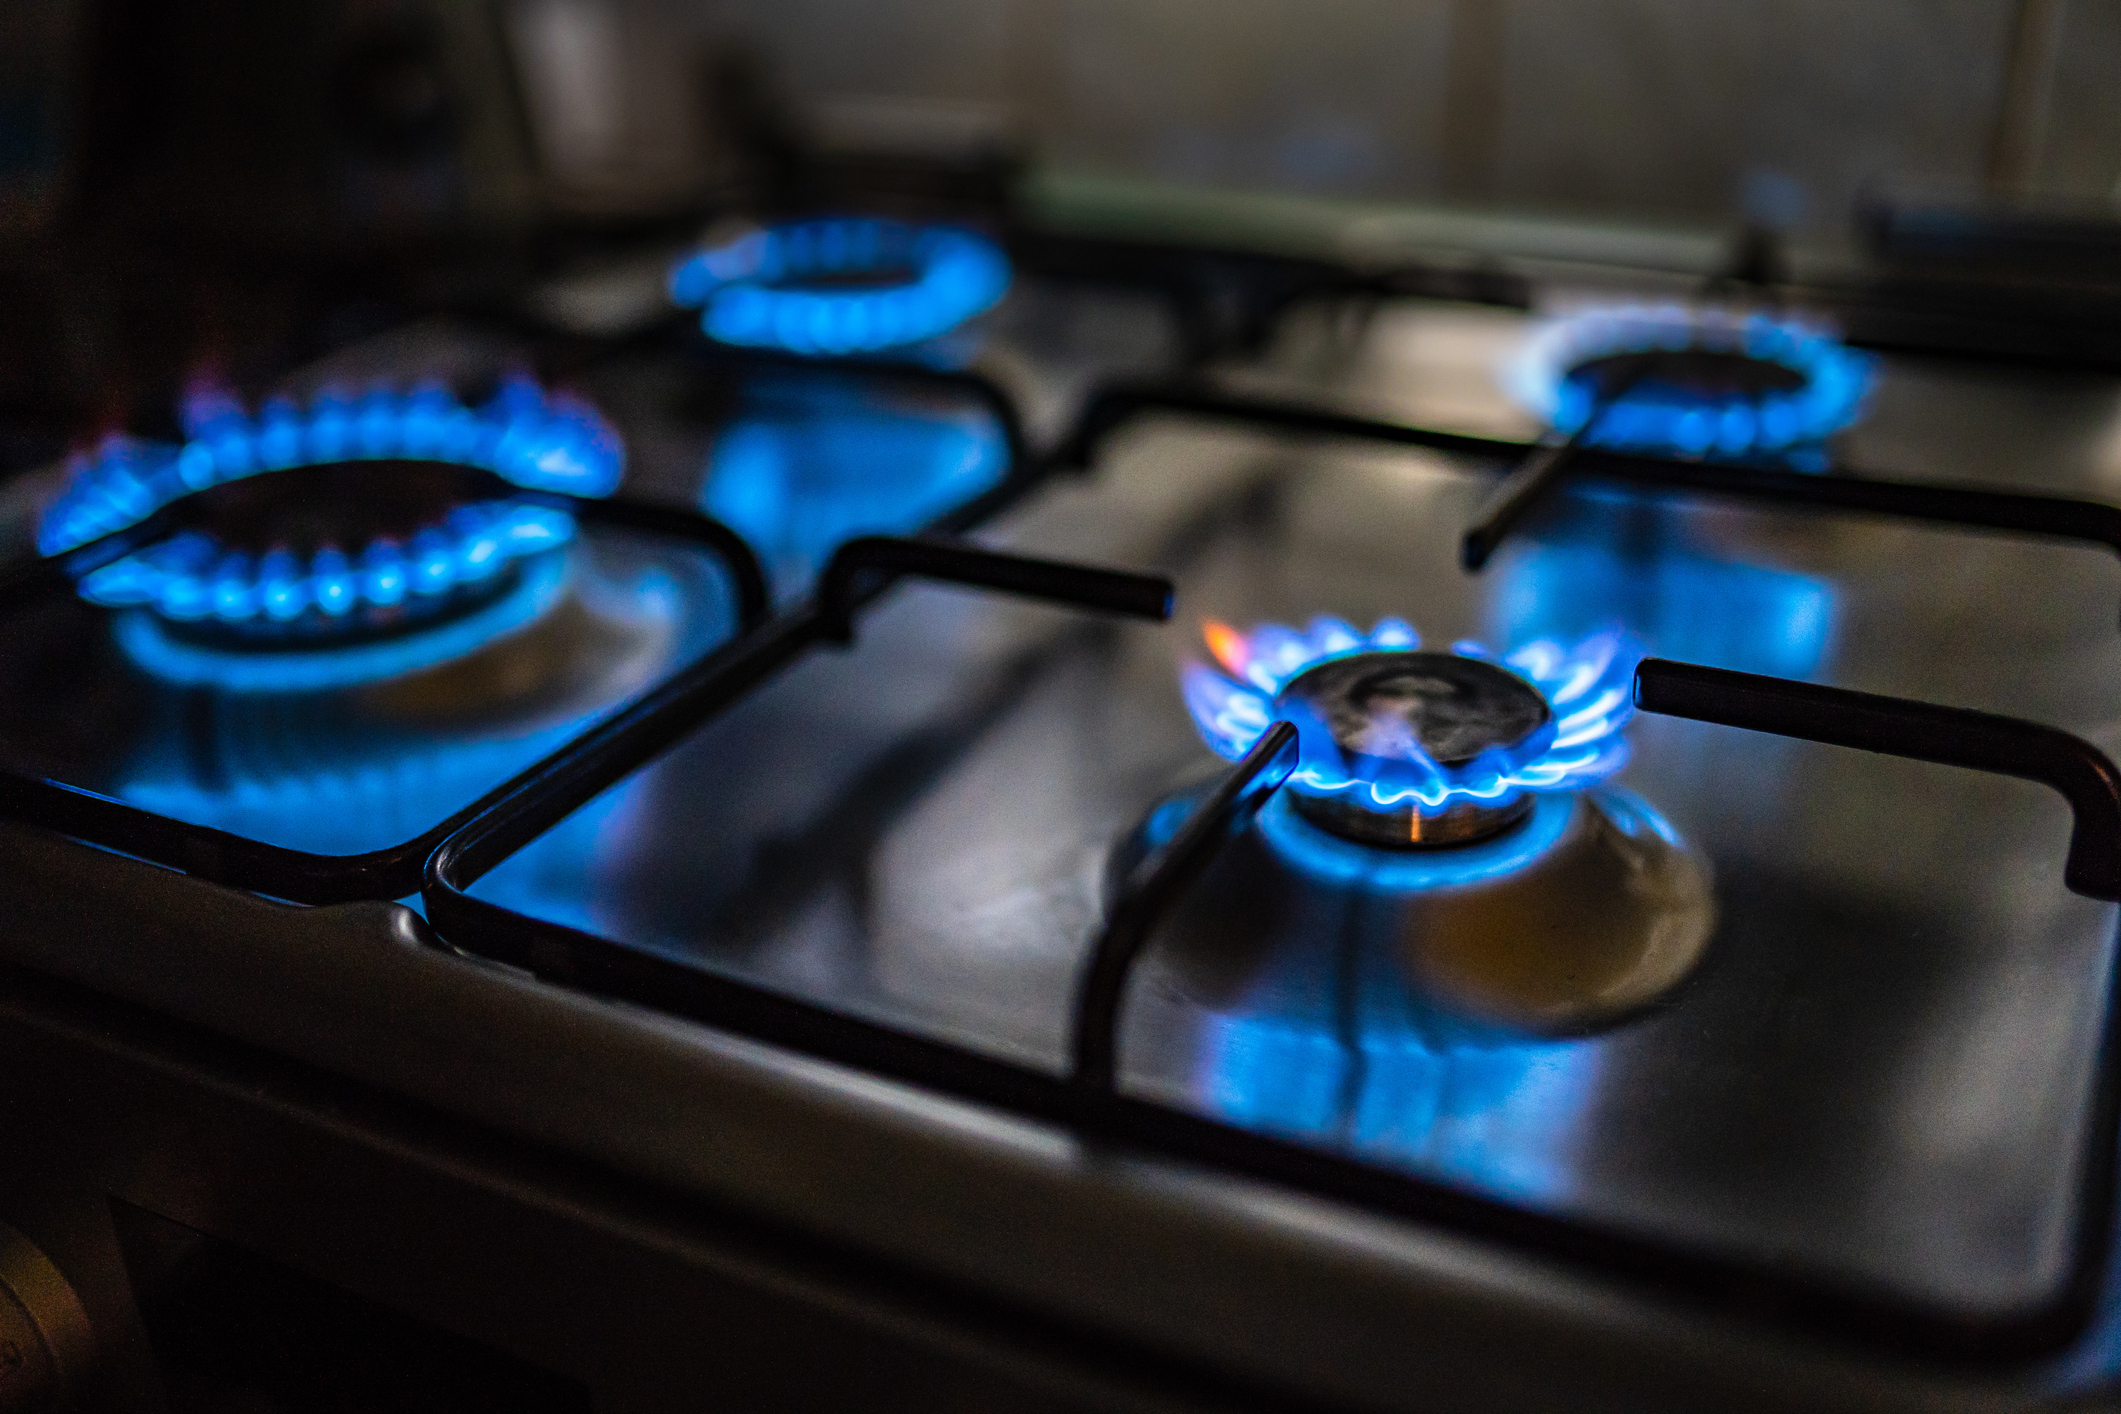stove: (6, 207, 2108, 1272)
